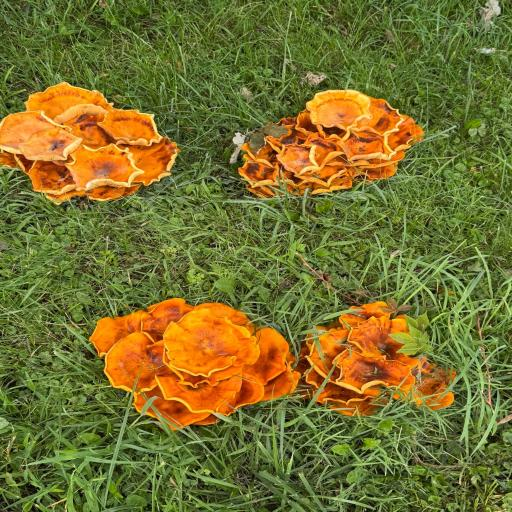Jack O Lantern Mushroom: (91, 290, 304, 423), (218, 79, 419, 206), (0, 81, 187, 210), (295, 301, 463, 422)
